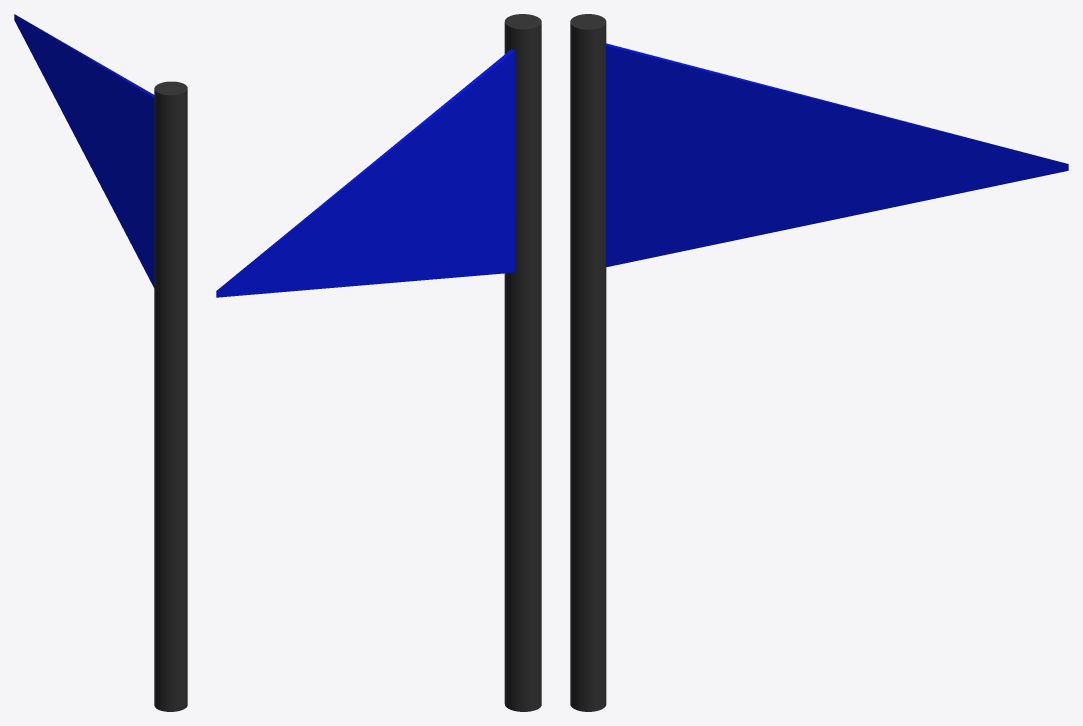
The model's file is FlagsBlue.fbx.
The picture shows the model from 3 angles, left to right: view 1: azimuth 30°, elevation 25°; view 2: azimuth 150°, elevation 25°; view 3: azimuth 270°, elevation 25°; orthographic projection. The views are drawn at different scales.
Visible parts, largest first — view 1: Cylinder.001; view 2: Cylinder.001; view 3: Cylinder.001.
Boxes of the visible parts, left/top/right/bottom form: Cylinder.001: left=14, top=14, right=187, bottom=711; Cylinder.001: left=216, top=14, right=541, bottom=711; Cylinder.001: left=570, top=14, right=1068, bottom=711.
Bounding box in the file's own units: 84.1 × 662 × 438.
